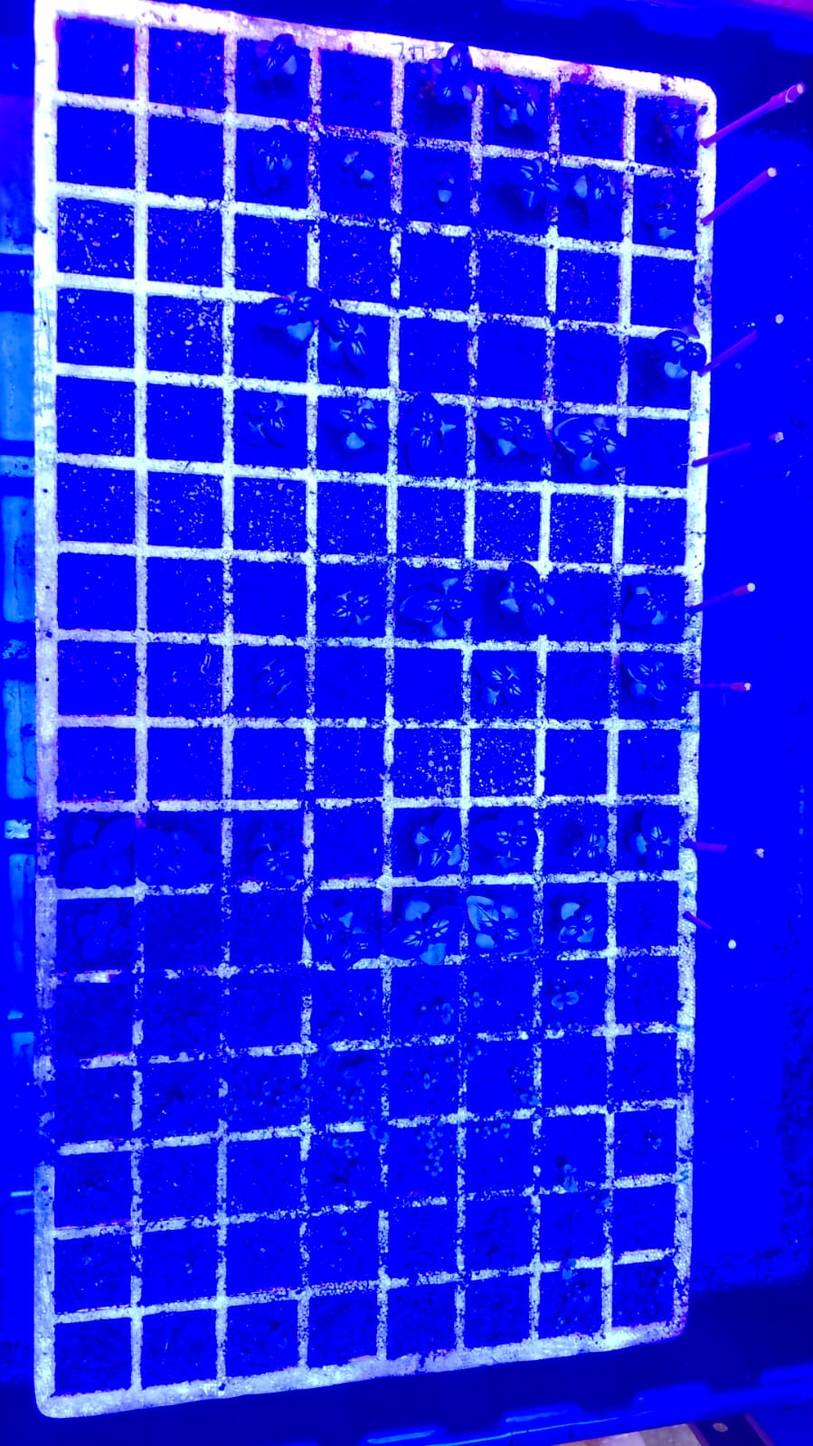Germinacao: (81, 432, 192, 486), (666, 1417, 784, 1439), (39, 178, 79, 213), (117, 193, 167, 217), (61, 277, 133, 290), (134, 286, 147, 331), (136, 212, 147, 257), (39, 1364, 53, 1384)
